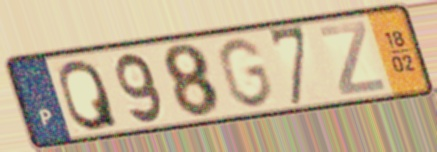7: (267, 24, 312, 109)
8: (162, 40, 223, 120)
9: (114, 50, 165, 126)
G: (215, 36, 276, 111)
Q: (56, 56, 122, 133)
Z: (316, 18, 389, 97)
